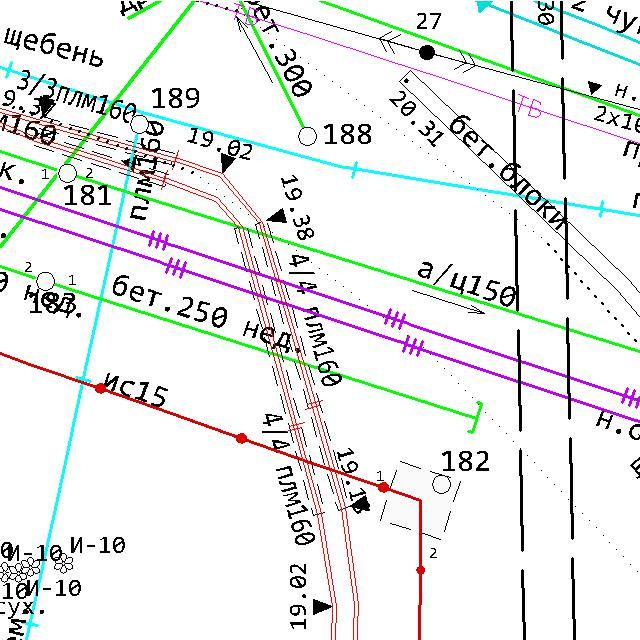mark: (264, 206, 290, 226), (310, 596, 334, 617), (218, 152, 238, 176), (36, 94, 54, 120), (349, 494, 371, 513), (586, 79, 604, 98)
well: (33, 269, 58, 293), (296, 124, 320, 148), (127, 113, 151, 136), (56, 161, 79, 185), (430, 472, 453, 496)
